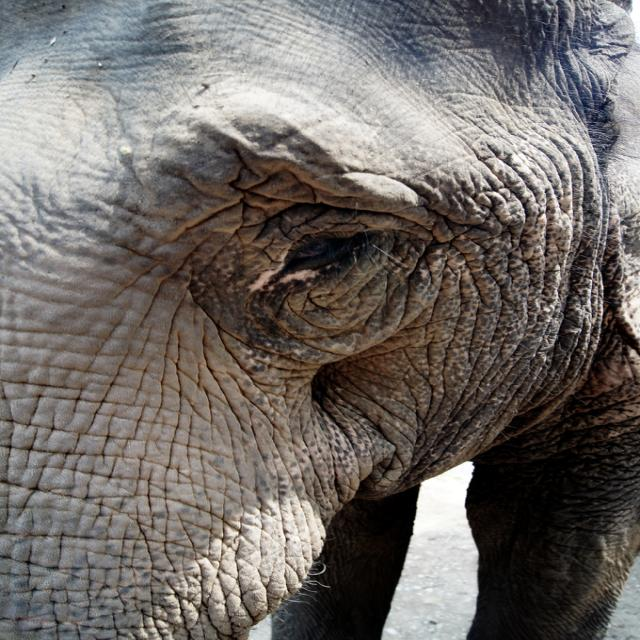Elephant: (0, 52, 623, 638)
